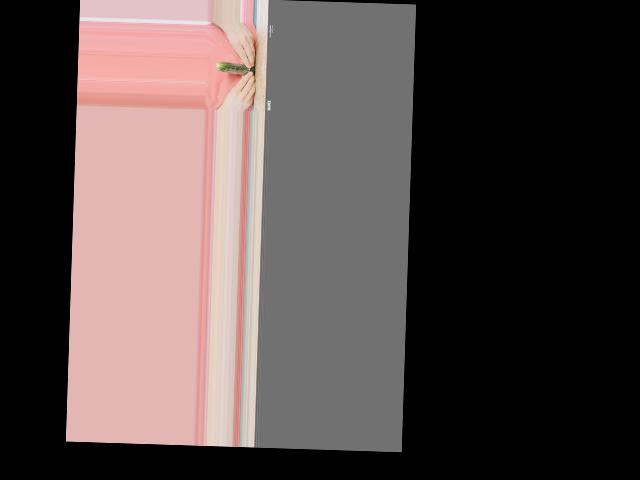cucumber: (216, 60, 255, 74)
